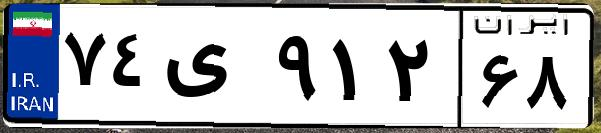1: (330, 28, 385, 110)
2: (385, 28, 445, 110)
4: (110, 28, 158, 98)
6: (475, 38, 525, 113)
7: (57, 26, 110, 100)
8: (525, 38, 570, 115)
9: (270, 28, 330, 110)
ی: (158, 20, 270, 120)
